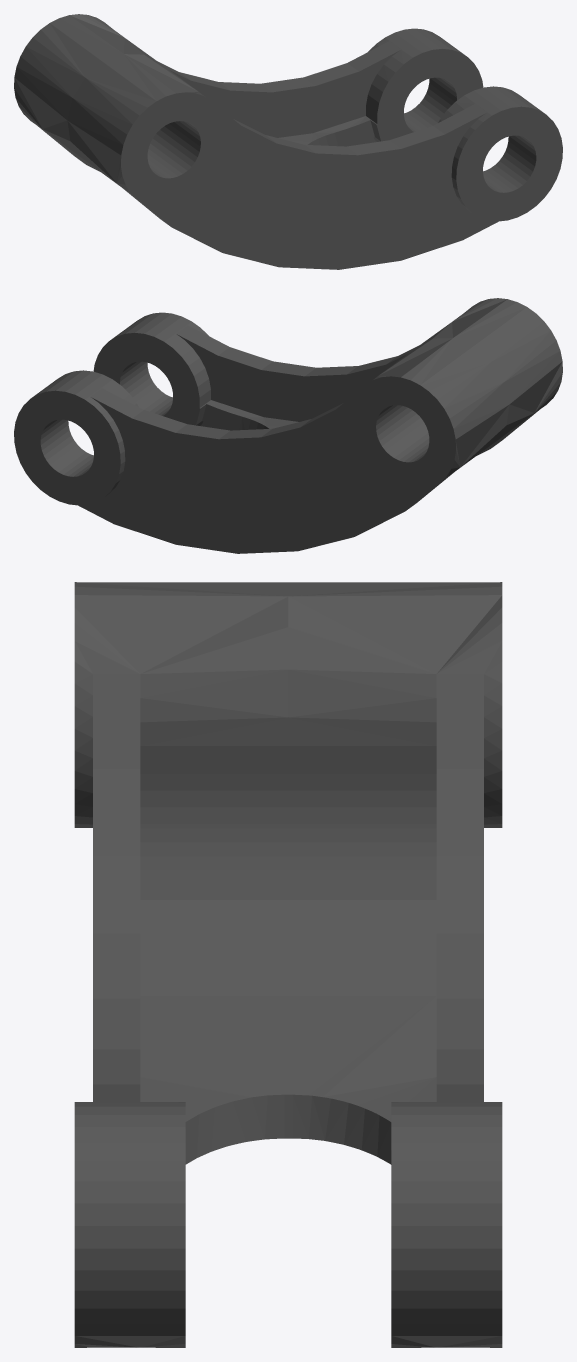
File: lever.dae
The picture shows the model from 3 angles, top to bottom: view 1: azimuth 30°, elevation 25°; view 2: azimuth 150°, elevation 25°; view 3: azimuth 270°, elevation 25°; orthographic projection. The views are drawn at different scales.
Parts seen in each view (by area): view 1: Schaufelhebel_Bucket; view 2: Schaufelhebel_Bucket; view 3: Schaufelhebel_Bucket.
Part boxes in pixels (<box>): Schaufelhebel_Bucket: <box>14,14,562,269</box>; Schaufelhebel_Bucket: <box>14,298,562,553</box>; Schaufelhebel_Bucket: <box>74,582,502,1347</box>.
Bounding box in the file's own units: 0.2734 × 0.1146 × 0.134.
1 material, 1 textured.
